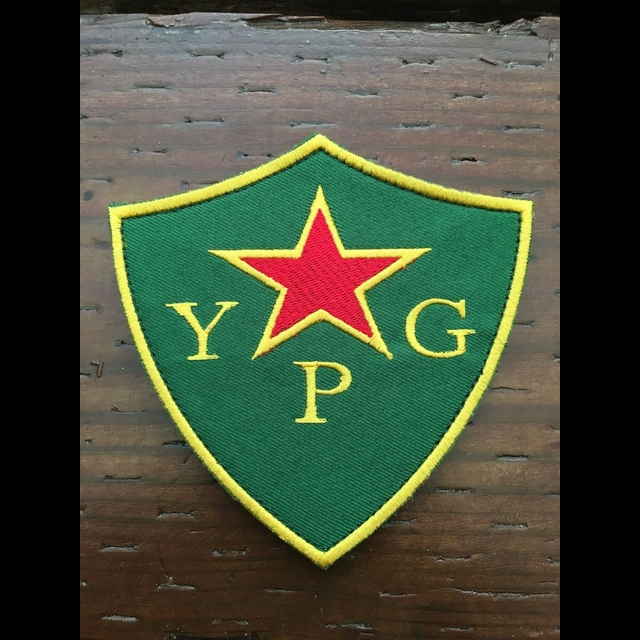YPG: (172, 188, 475, 426)
